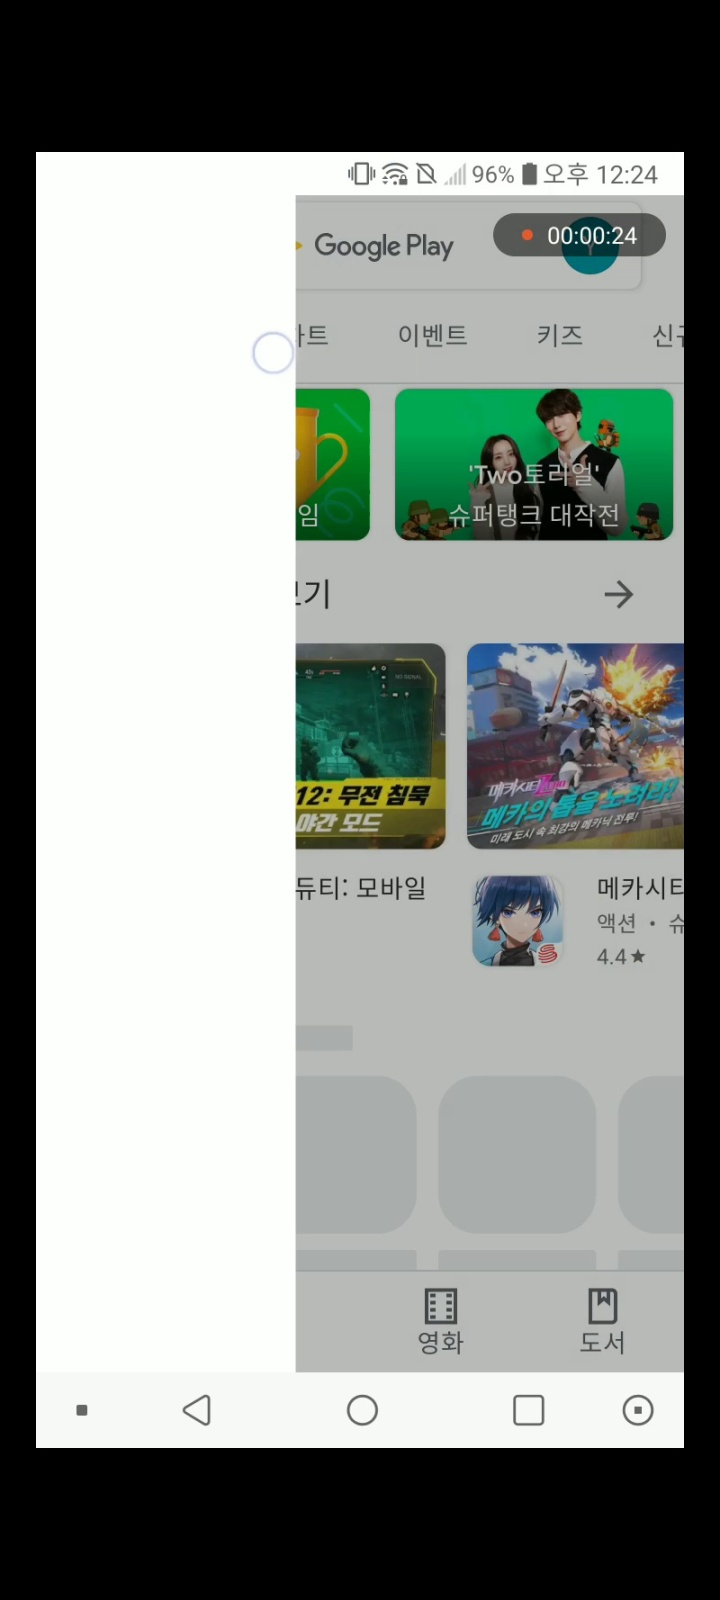Cursor: (252, 331, 297, 376)
